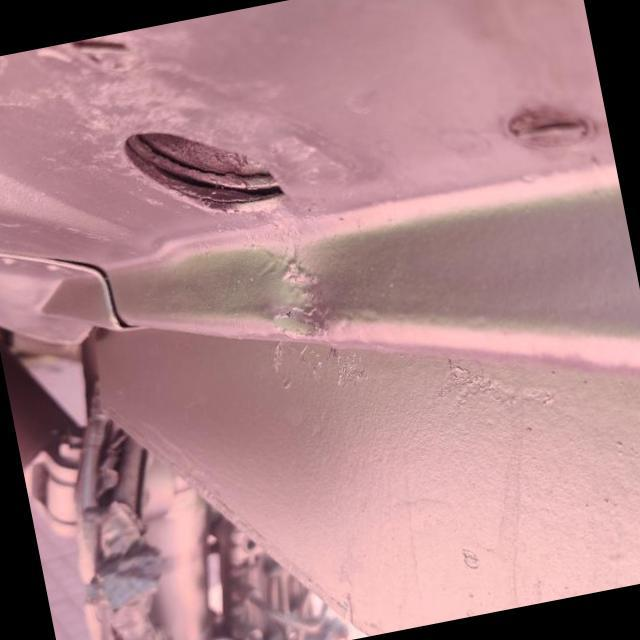Dent: (233, 222, 379, 378)
